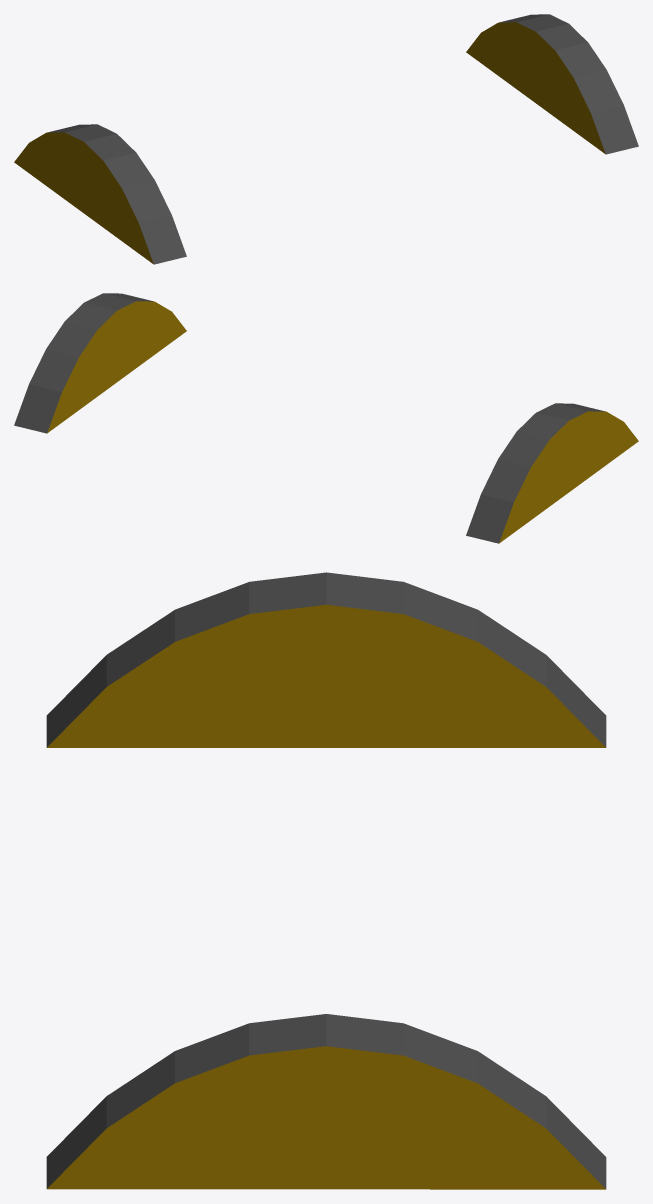
The model's file is splashers.dae.
3 views of the same model, one above another, from view 1: azimuth 30°, elevation 25°; view 2: azimuth 150°, elevation 25°; view 3: azimuth 270°, elevation 25° (orthographic). The views are drawn at different scales.
Visible parts, largest first — view 1: Circle, Circle_001; view 2: Circle, Circle_001; view 3: Circle_001, Circle.
Part boxes in pixels (x1=…): Circle: x1=14, y1=124, x2=186, y2=264; Circle_001: x1=466, y1=14, x2=638, y2=154; Circle: x1=466, y1=403, x2=638, y2=543; Circle_001: x1=14, y1=293, x2=186, y2=433; Circle_001: x1=46, y1=1014, x2=606, y2=1189; Circle: x1=46, y1=572, x2=606, y2=747.
Size of the model in its own units: 1.72 by 0.8575 by 0.2429.
